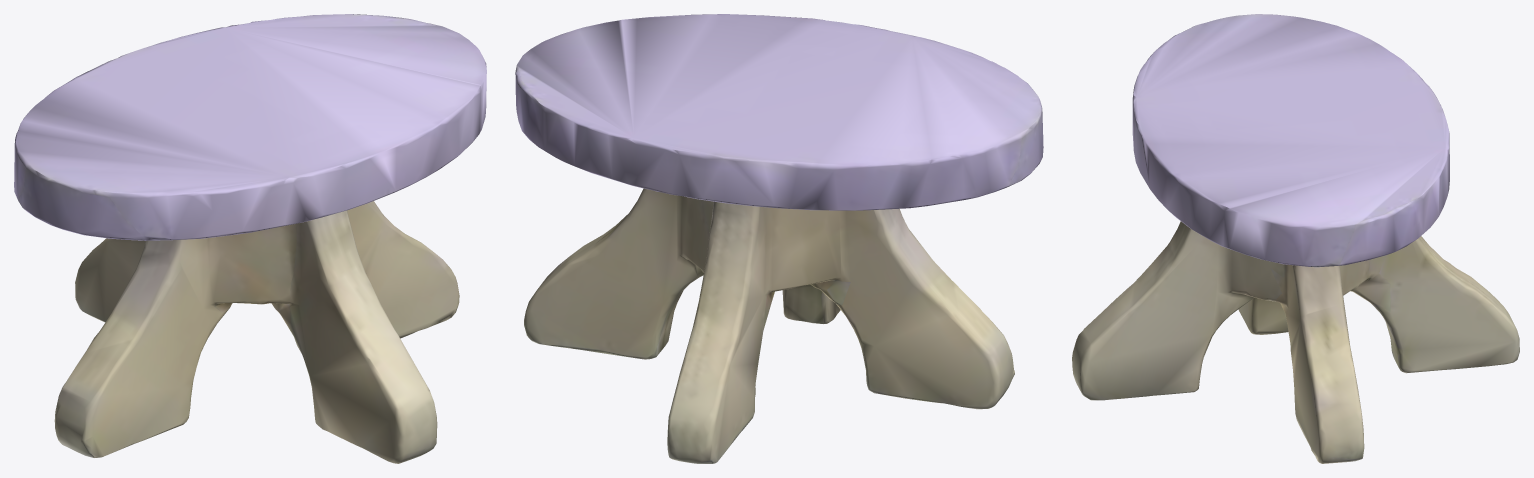
Rendered from 3D_Dollhouse_TablePurple-high.glb.
3 views of the same model, side by side, from view 1: azimuth 30°, elevation 25°; view 2: azimuth 150°, elevation 25°; view 3: azimuth 270°, elevation 25° (orthographic). The views are drawn at different scales.
Parts seen in each view (by area): view 1: 3D_Dollhouse_TablePurple; view 2: 3D_Dollhouse_TablePurple; view 3: 3D_Dollhouse_TablePurple.
Boxes of the visible parts, <box> form: 3D_Dollhouse_TablePurple: <box>14,14,486,463</box>; 3D_Dollhouse_TablePurple: <box>515,14,1043,463</box>; 3D_Dollhouse_TablePurple: <box>1072,14,1519,463</box>.
Bounding box in the file's own units: 0.098 × 0.0574 × 0.09.
Materials: 1 (1 with a texture image).
